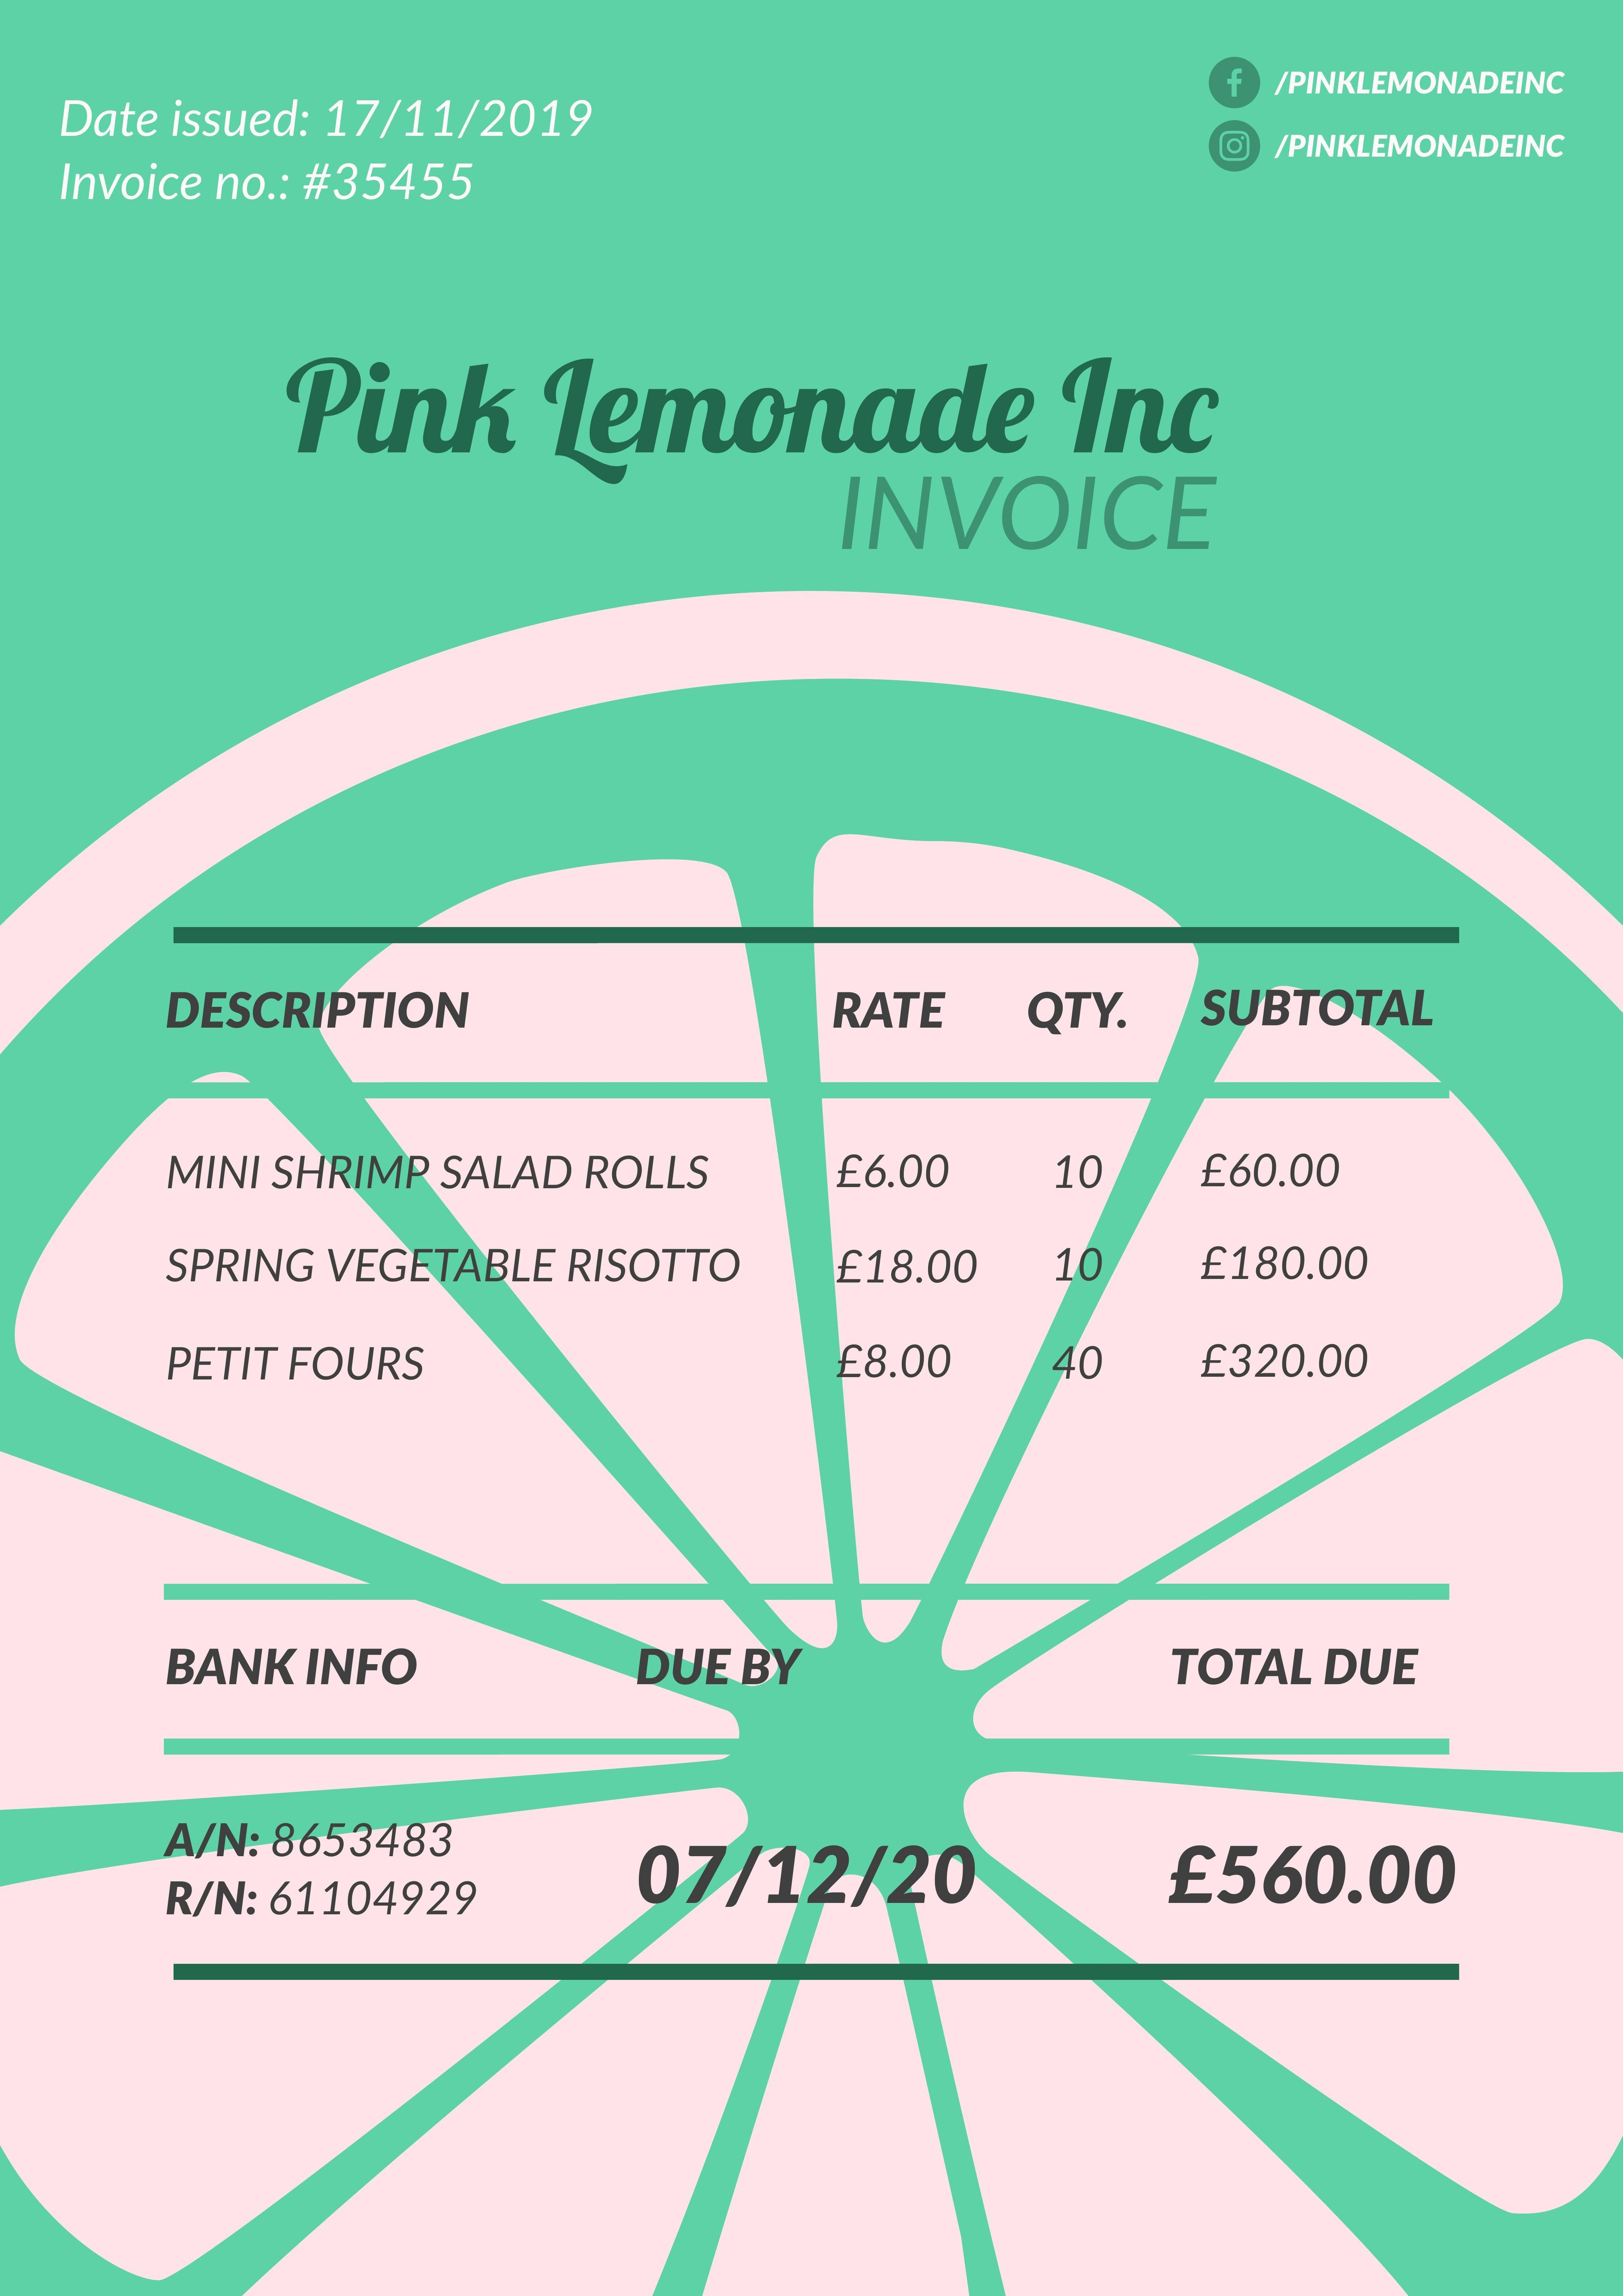ROI: (161, 925, 1461, 1415), (161, 1608, 1002, 1952), (276, 341, 1229, 475), (1139, 1614, 1464, 1930), (49, 78, 608, 217)
